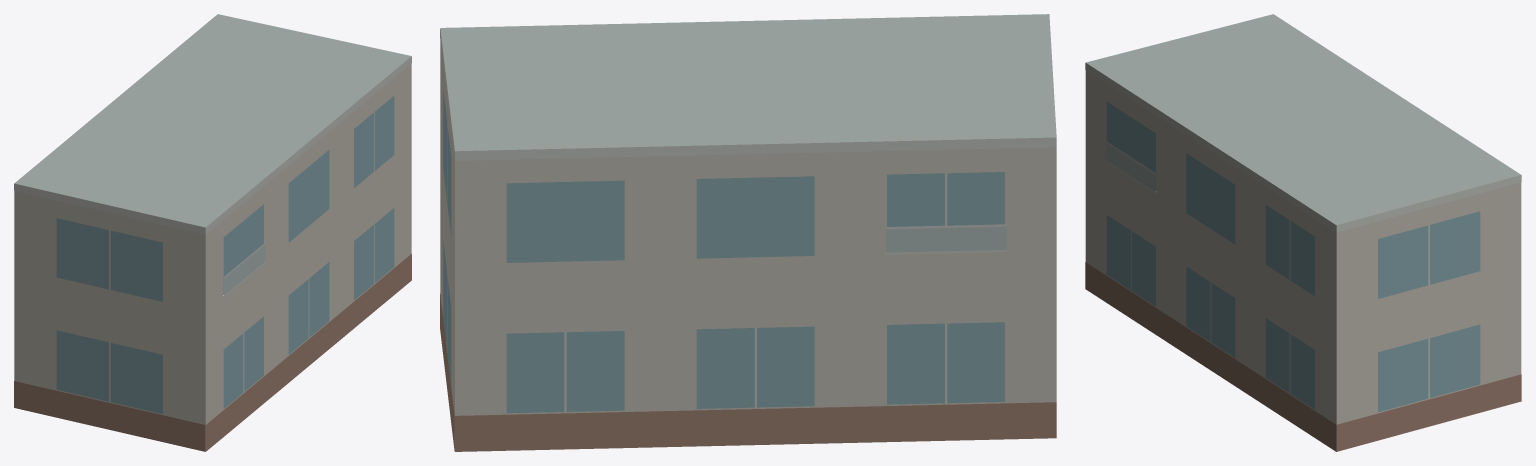
Rendered from survey-upis-32623867.glb.
3 views of the same model, side by side, from view 1: azimuth 30°, elevation 25°; view 2: azimuth 150°, elevation 25°; view 3: azimuth 270°, elevation 25° (orthographic). The views are drawn at different scales.
Visible parts, largest first — view 1: survey-upis-32623867.tmp; view 2: survey-upis-32623867.tmp; view 3: survey-upis-32623867.tmp.
Boxes of the visible parts, <box> form: survey-upis-32623867.tmp: <box>14,14,411,451</box>; survey-upis-32623867.tmp: <box>440,14,1056,451</box>; survey-upis-32623867.tmp: <box>1085,14,1521,451</box>.
Bounding box in the file's own units: 15.01 × 7.5 × 13.09.
